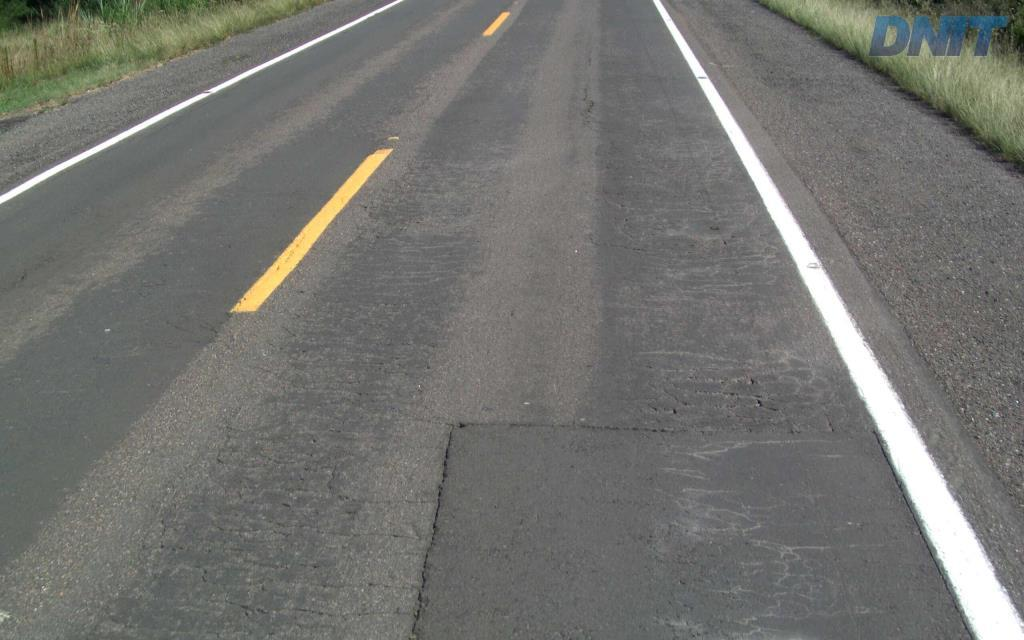crack: (411, 484, 443, 639)
